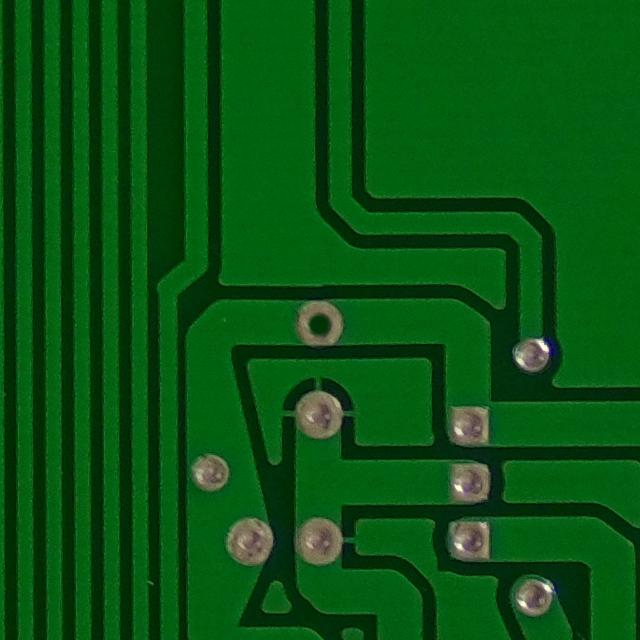missing_hole: (290, 291, 351, 350)
